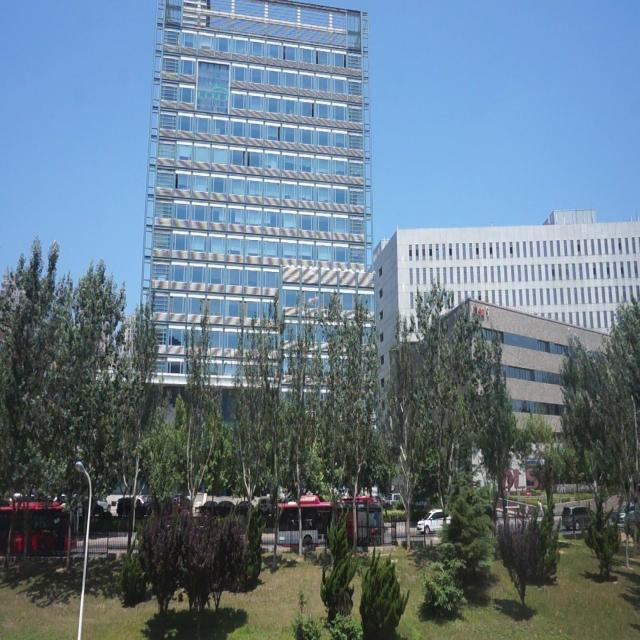UAV: (308, 296, 319, 306)
